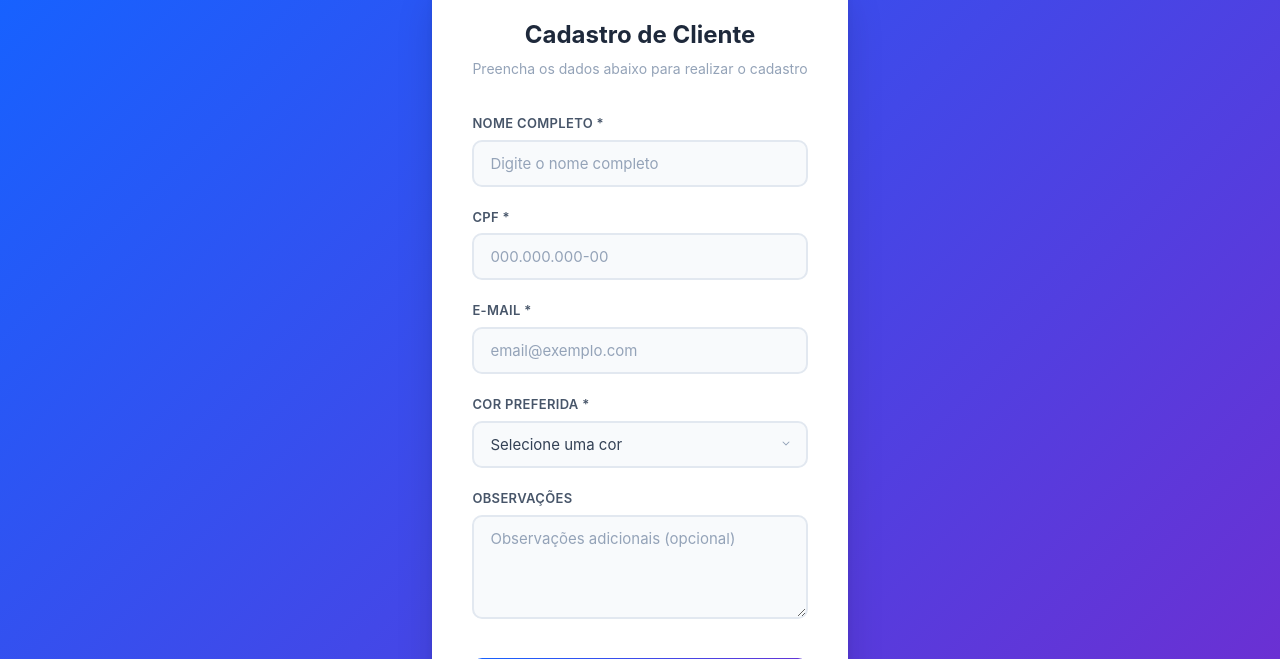
ClientForm › shows success message on successful submit
Type "João da Silva" into the field labelled "Nome completo *" at (640, 163), box [472,140,808,187]
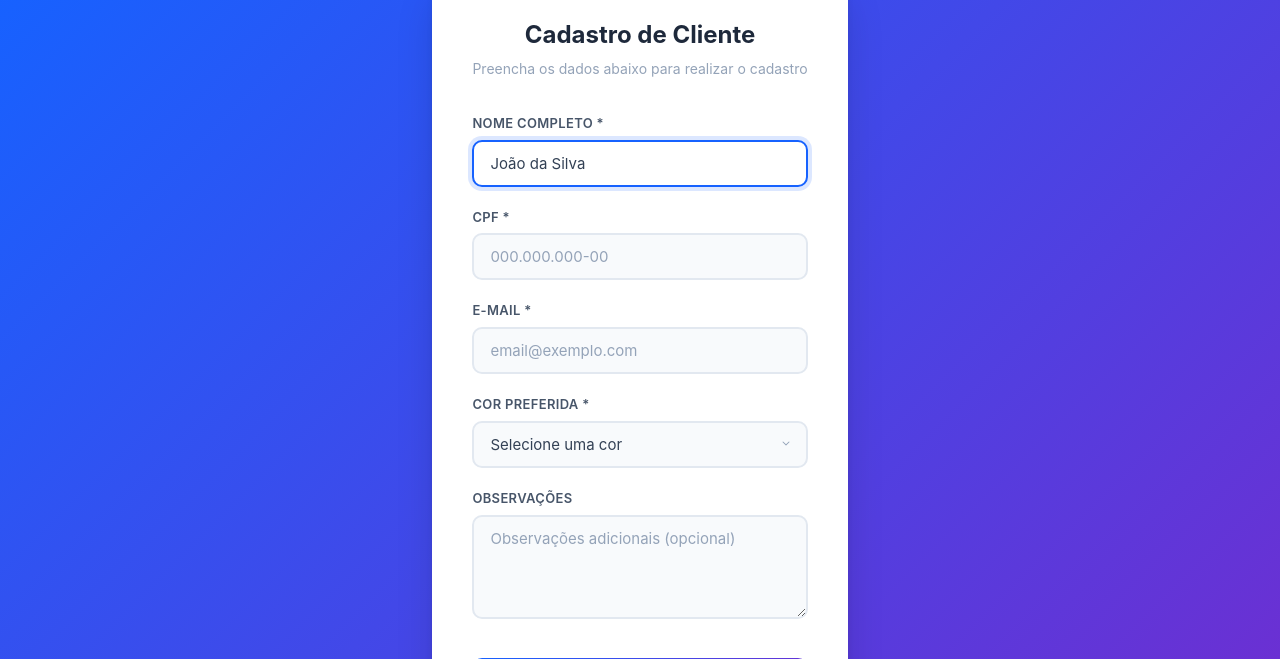
Type "52998224725" into the field labelled "CPF *" at (640, 257), box [472,233,808,280]
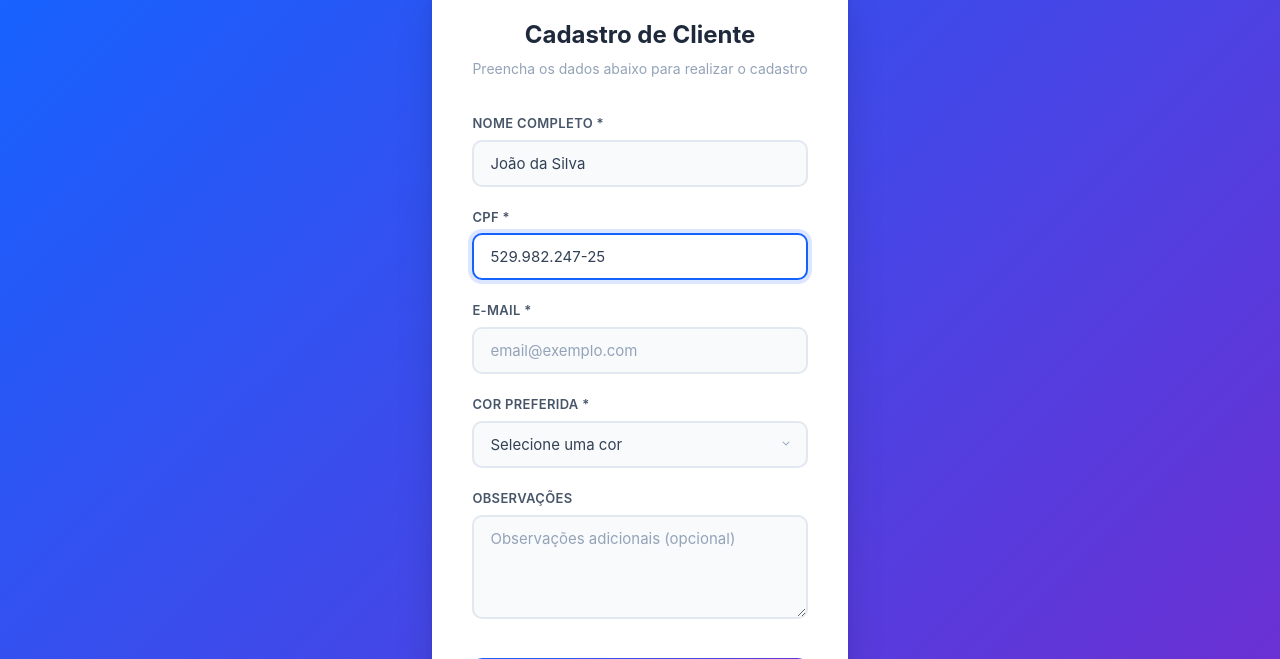
Type "joao@example.com" into the field labelled "E-mail *" at (640, 351), box [472,327,808,374]
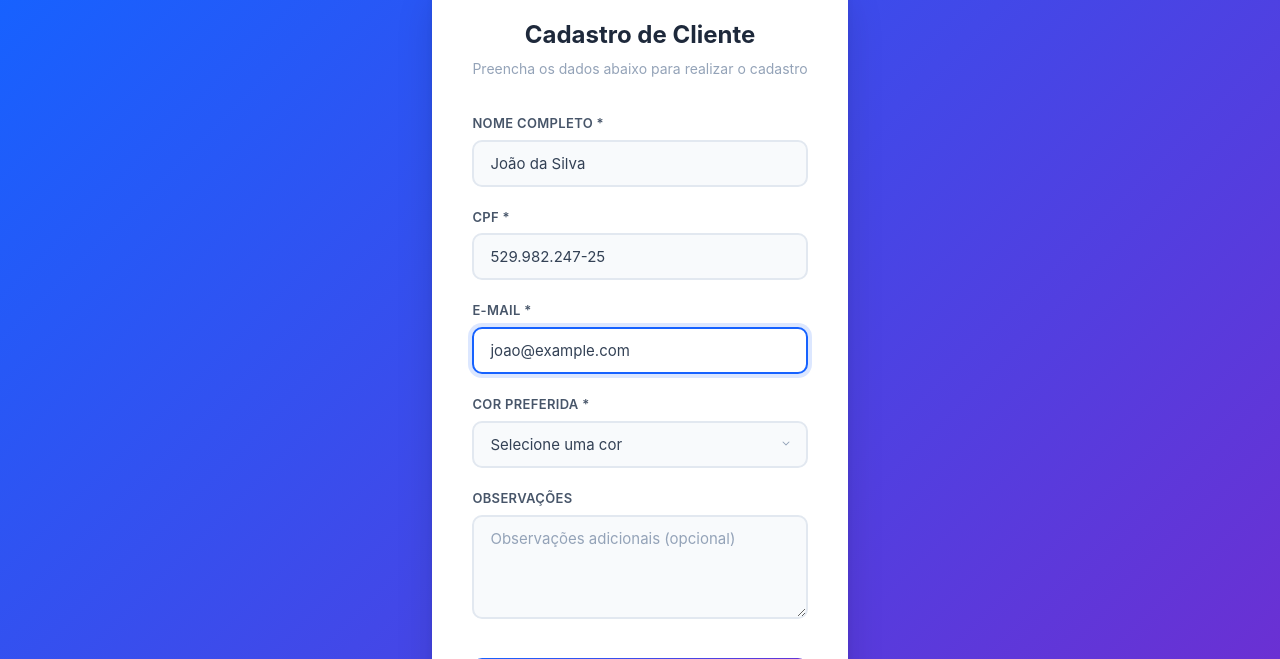
Select "Azul" in the dropdown labelled "Cor preferida *" at (640, 444), box [472,421,808,468]
(page scrolled)
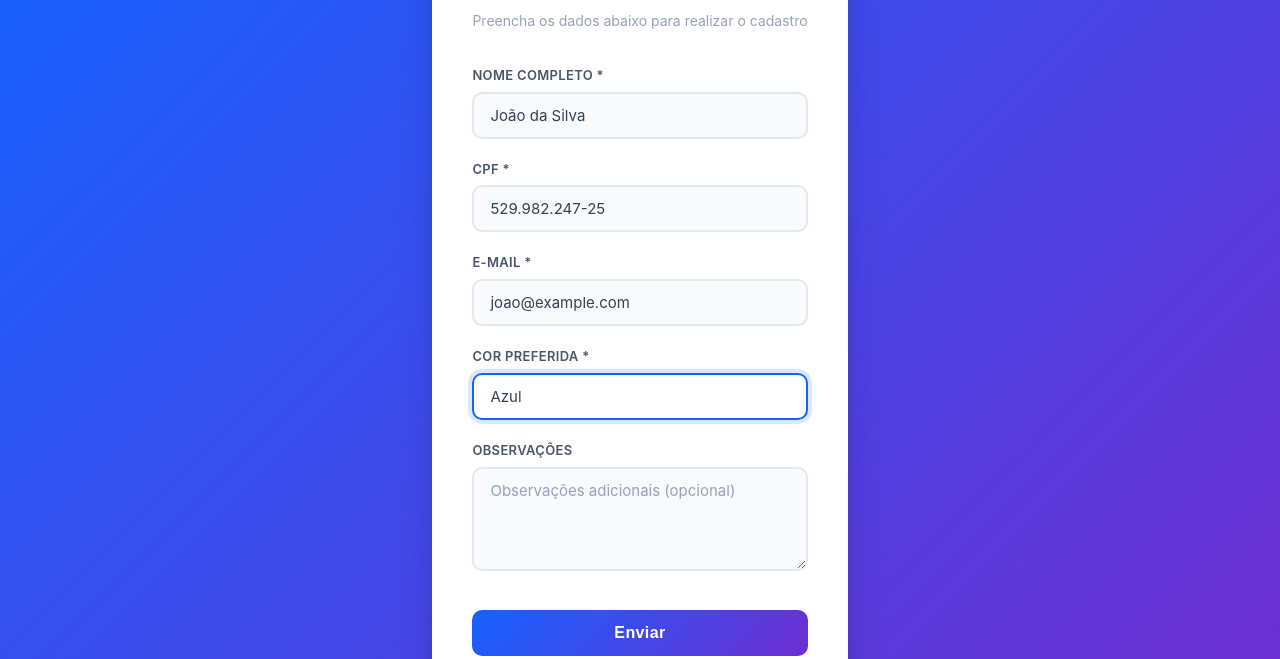
Click the button "Enviar" at (640, 633), box [472,610,808,656]
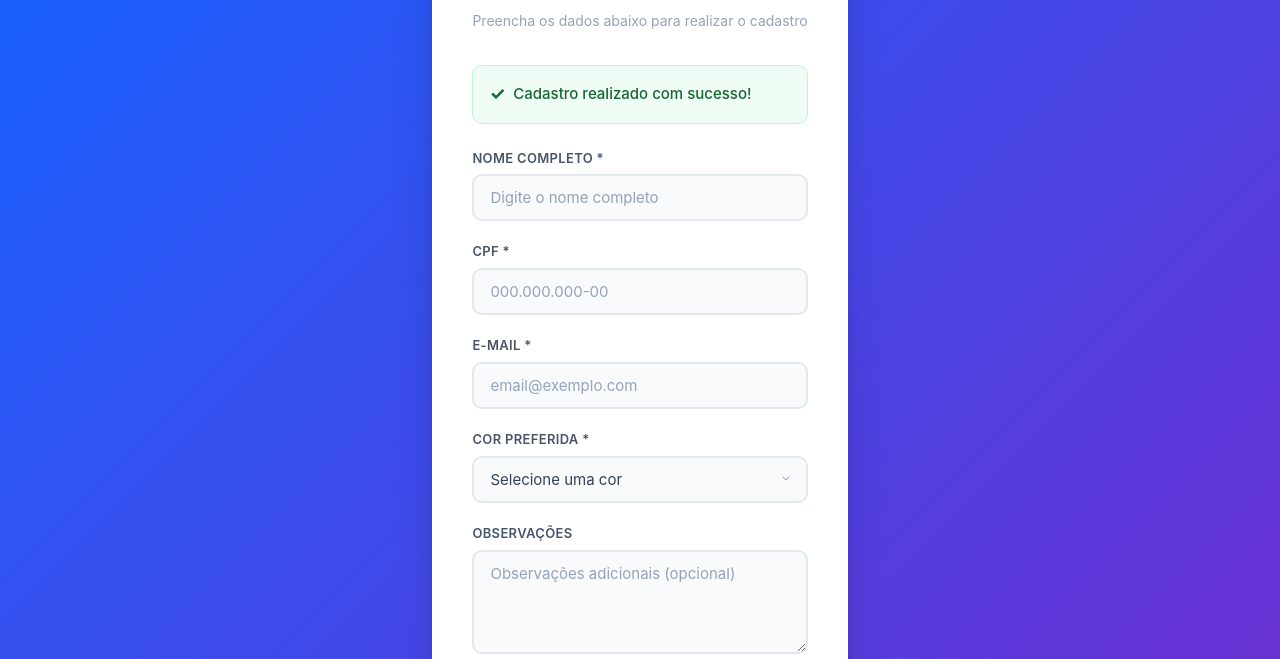
Expected: the text "Cadastro realizado com sucesso!" is shown, [472,65,808,124]
